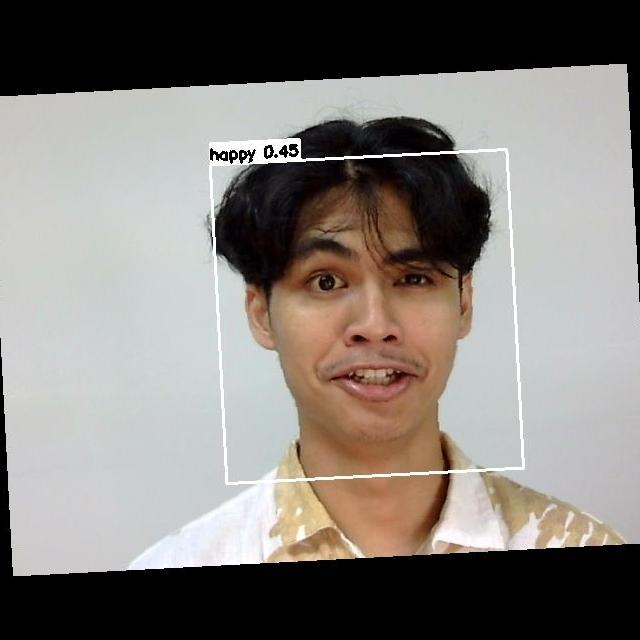Fear: (254, 210, 464, 425)
